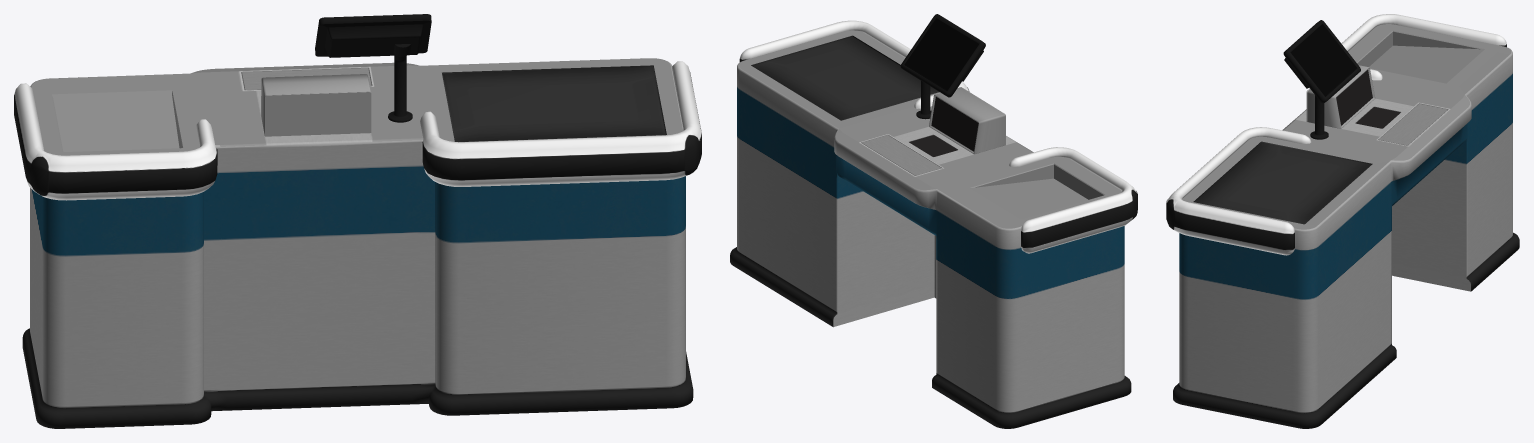
The picture shows the model from 3 angles, left to right: view 1: azimuth 30°, elevation 25°; view 2: azimuth 150°, elevation 25°; view 3: azimuth 270°, elevation 25°; orthographic projection. The views are drawn at different scales.
Visible parts, largest first — view 1: body, z_porte_caisse_no_norm, pied_ecran; view 2: body, z_porte_caisse_no_norm, pied_ecran; view 3: body, z_porte_caisse_no_norm, pied_ecran.
Part boxes in pixels (x1,y1,x2,y2): body: (22, 58, 693, 428); z_porte_caisse_no_norm: (14, 61, 701, 200); pied_ecran: (315, 14, 431, 122); body: (730, 30, 1131, 428); z_porte_caisse_no_norm: (739, 20, 1137, 253); pied_ecran: (900, 14, 985, 119); body: (1173, 24, 1519, 428); z_porte_caisse_no_norm: (1166, 14, 1506, 255); pied_ecran: (1283, 20, 1360, 139).
Bounding box in the file's own units: 2 × 1.23 × 1.39.
3 materials, 2 textured.
